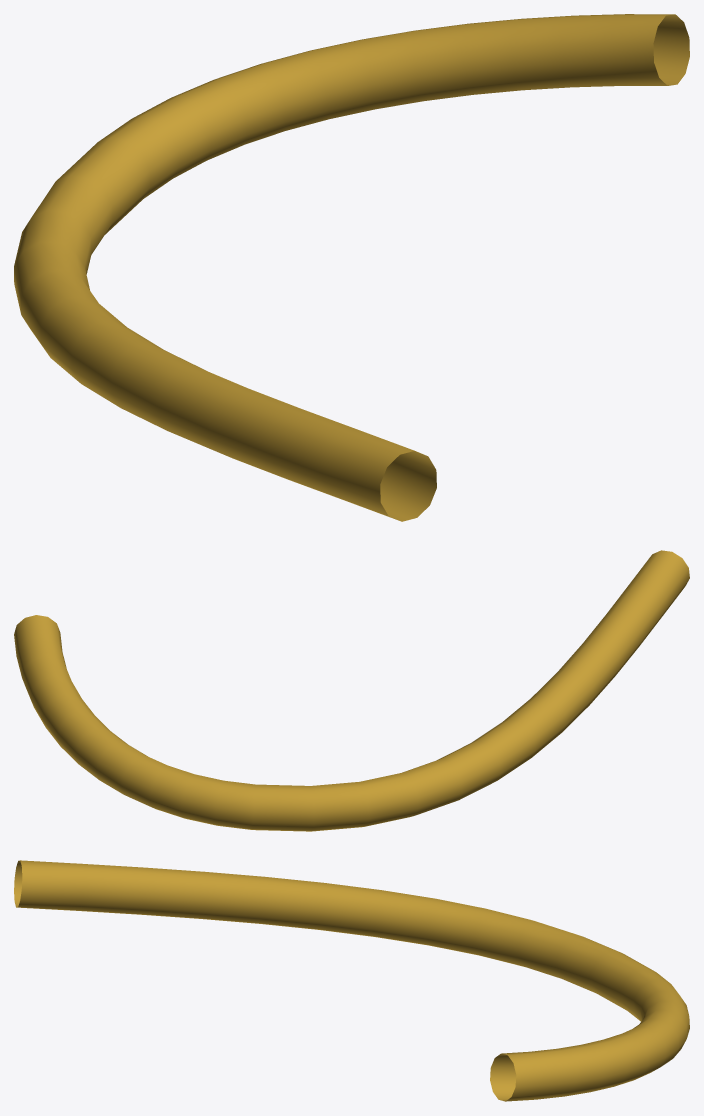
3 renders of one model, top to bottom at view 1: azimuth 30°, elevation 25°; view 2: azimuth 150°, elevation 25°; view 3: azimuth 270°, elevation 25°, orthographic. The views are drawn at different scales.
Visible parts, largest first — view 1: 右侧正中神经与尺神经交通支; view 2: 右侧正中神经与尺神经交通支; view 3: 右侧正中神经与尺神经交通支.
Boxes of the visible parts, x1,y1,x2,y2 form: 右侧正中神经与尺神经交通支: (14, 14, 689, 521); 右侧正中神经与尺神经交通支: (14, 550, 689, 831); 右侧正中神经与尺神经交通支: (14, 860, 689, 1101).
Bounding box in the file's own units: 0.0169 × 0.00352 × 0.0206.
